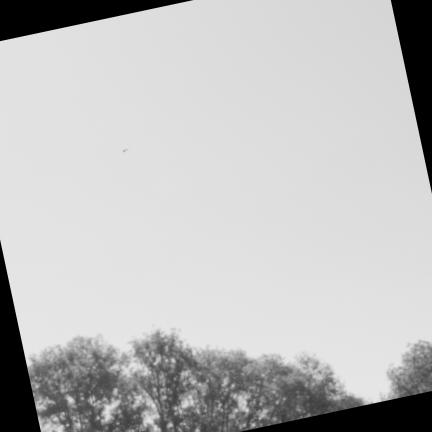Shahed: (122, 148, 128, 153)
